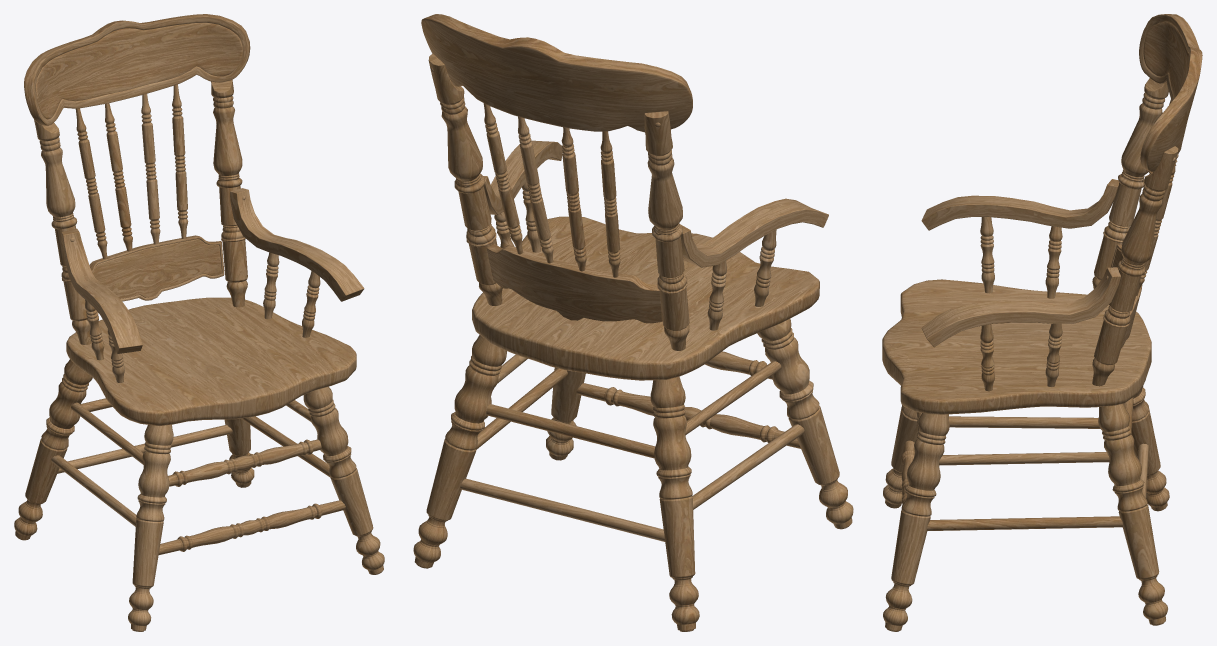
Rendered from Chair.glb.
3 renders of one model, left to right at view 1: azimuth 30°, elevation 25°; view 2: azimuth 150°, elevation 25°; view 3: azimuth 270°, elevation 25°, orthographic. The views are drawn at different scales.
Parts seen in each view (by area): view 1: EmbaseDeDos; view 2: EmbaseDeDos; view 3: EmbaseDeDos.
Part boxes in pixels (x1,y1,x2,y2): EmbaseDeDos: [14, 14, 384, 631]; EmbaseDeDos: [413, 14, 853, 631]; EmbaseDeDos: [882, 14, 1202, 631].
Bounding box in the file's own units: 1.01 × 1.82 × 1.02.
Materials: 1 (1 with a texture image).
